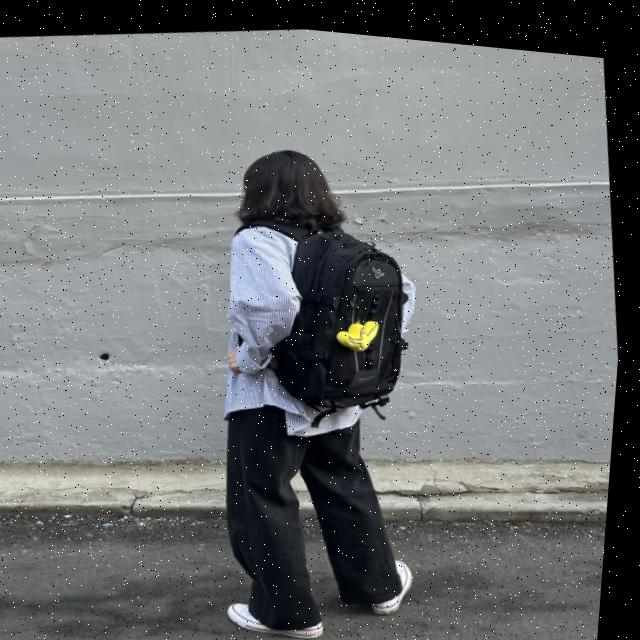backpack: (199, 183, 439, 430)
